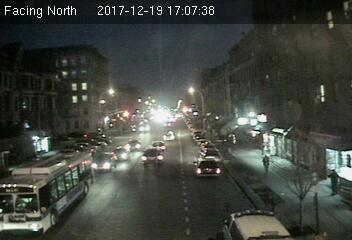bus: (1, 150, 97, 233)
car: (91, 152, 117, 173), (194, 158, 220, 177), (141, 148, 163, 165), (109, 146, 130, 162), (125, 140, 143, 152), (148, 140, 166, 152)
police: (221, 209, 287, 240)
